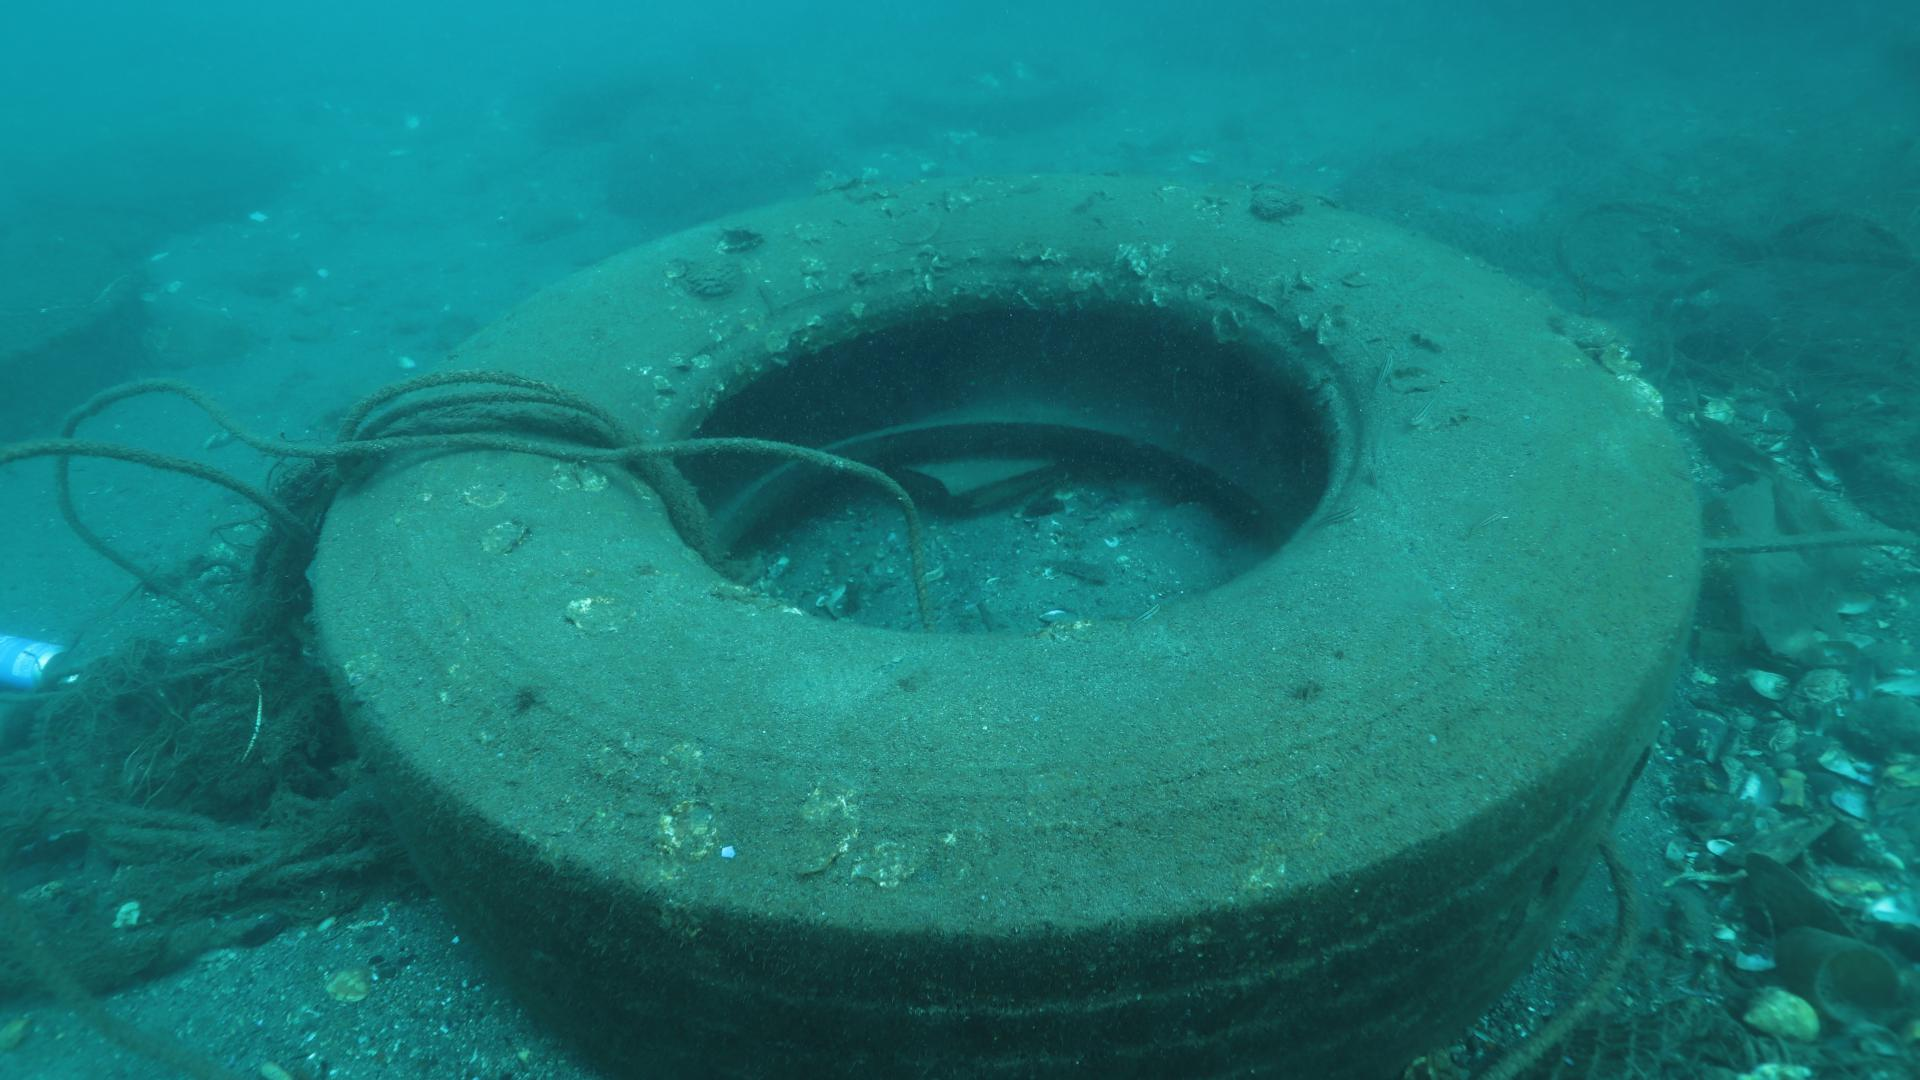bundle of ropes: (0, 367, 936, 996)
rope: (1472, 738, 1655, 1080)
tire: (305, 173, 1698, 1080)
